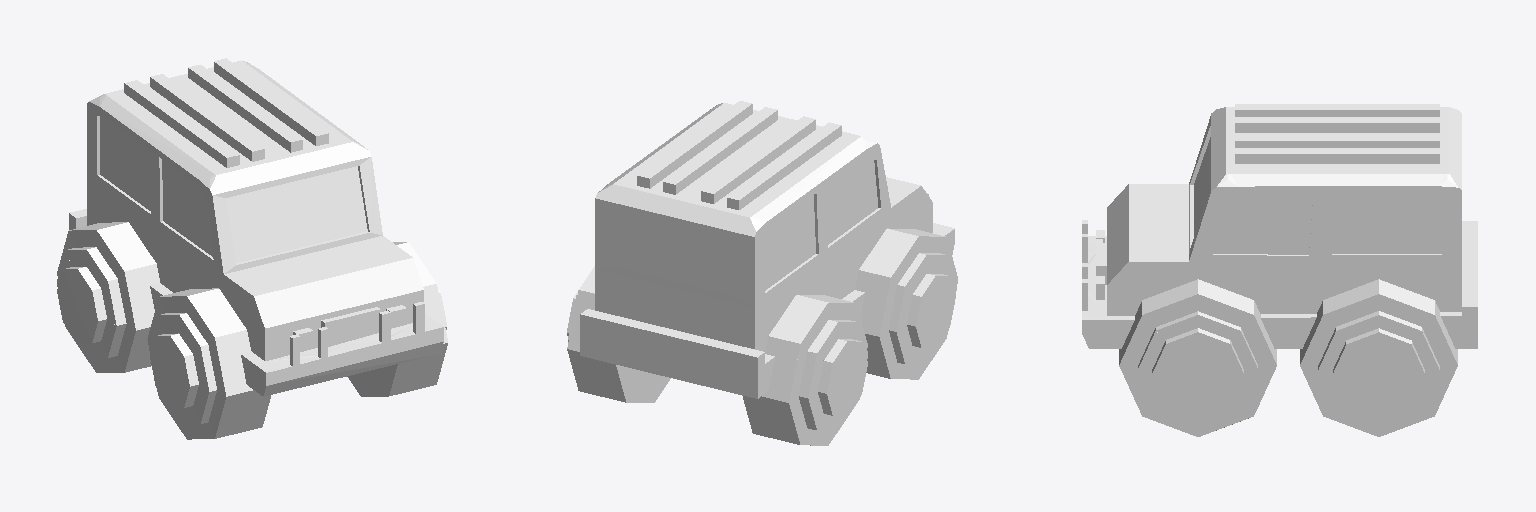
The model's file is Car.obj.
The picture shows the model from 3 angles: view 1: azimuth 30°, elevation 25°; view 2: azimuth 150°, elevation 25°; view 3: azimuth 270°, elevation 25°; orthographic projection.
Parts seen in each view (by area): view 1: Car; view 2: Car; view 3: Car.
Boxes of the visible parts, x1=… form: Car: x1=57, y1=58, x2=447, y2=439; Car: x1=567, y1=101, x2=957, y2=445; Car: x1=1082, y1=104, x2=1477, y2=436.
Bounding box in the file's own units: 1.62 × 1.52 × 2.15.